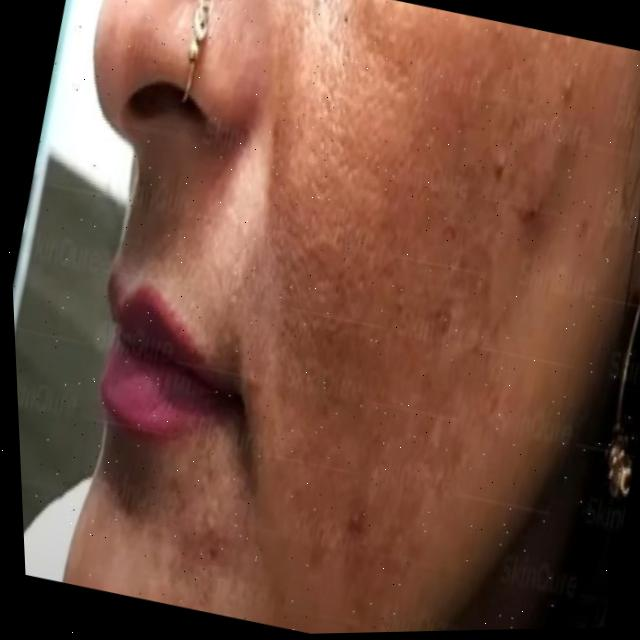Melasma: (174, 10, 609, 636)
